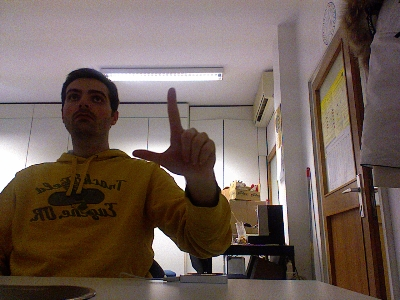枪: (129, 85, 218, 175)
